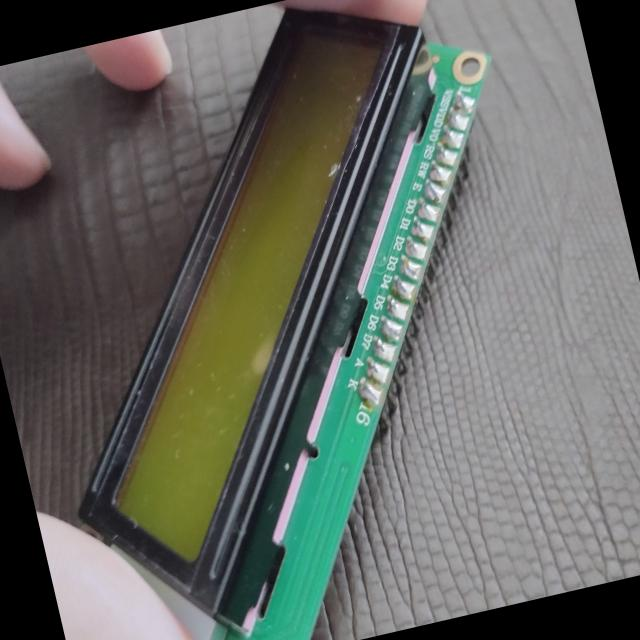lcd: (5, 0, 602, 640)
